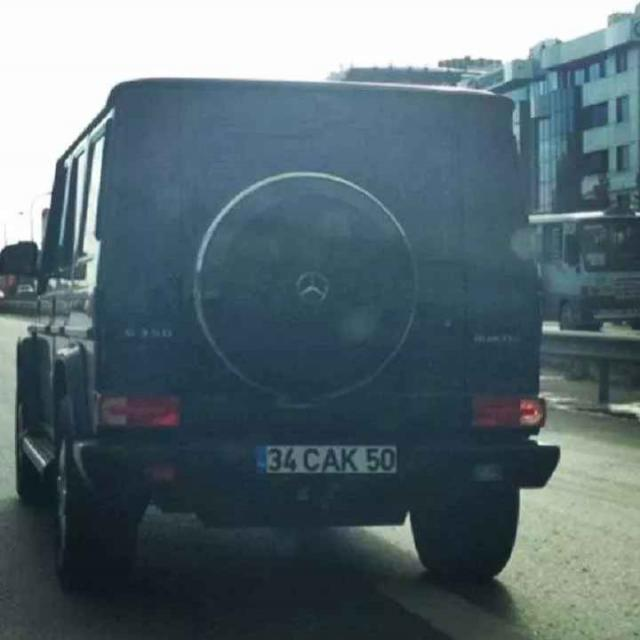plate: (251, 442, 407, 480)
